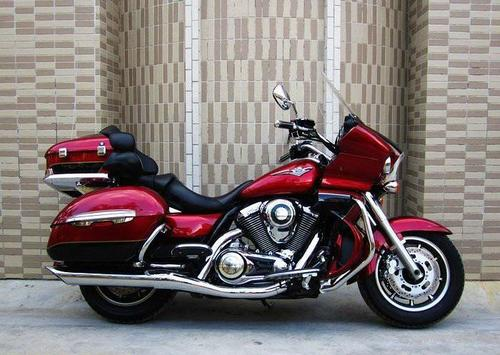motor: (31, 94, 467, 330)
